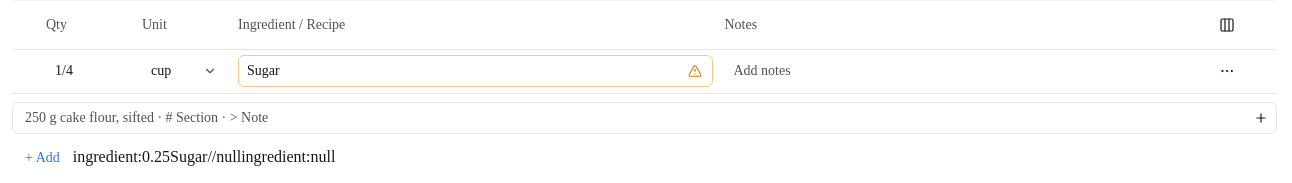
recipe items table quantities › shows a stored decimal as a kitchen fraction until it is focused
Focus the field named "Quantity" at {"x": 88, "y": 71}, box [46,55,130,87]
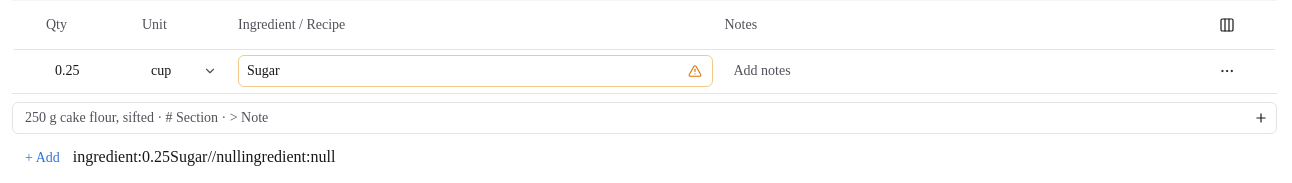
Result: the field named "Quantity" holds "0.25" at [46,55,130,87]
